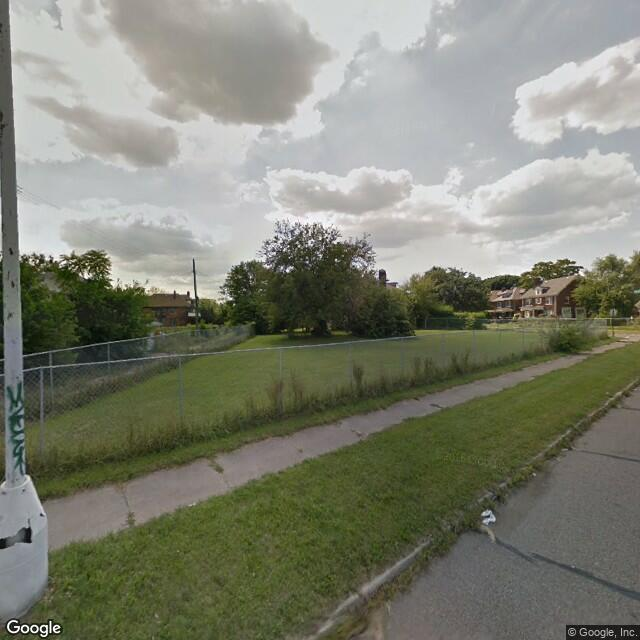litter: (476, 503, 500, 523), (184, 495, 204, 511), (526, 467, 543, 482)
